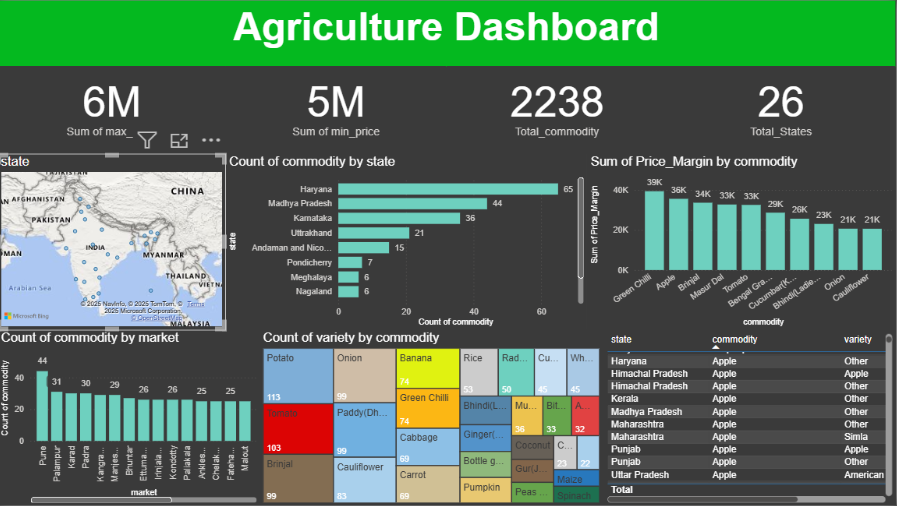

The dashboard page shown, as its layout file describes it:
{"tool":"powerbi","page":{"name":"Page 1","canvas":[1280,720],"ordinal":0},"visuals":[{"type":"textbox","box":[0,0,1279.2,93.9],"z":0},{"type":"card","fields":{"Values":["Sum(Agri_State_Wise.max_price)"]},"box":[0,93.9,325.5,110.1],"z":1000},{"type":"card","fields":{"Values":["Sum(Agri_State_Wise.min_price)"]},"box":[325.5,93.9,314.1,110.1],"z":2000},{"type":"clusteredBarChart","fields":{"Category":["Agri_State_Wise.state"],"Y":["CountNonNull(Agri_State_Wise.commodity)"]},"box":[325.5,218.6,514.9,251],"z":3000},{"type":"tableEx","fields":{"Values":["Agri_State_Wise.state","Agri_State_Wise.commodity","Agri_State_Wise.variety","Sum(Agri_State_Wise.modal_price)"]},"box":[863,469.6,416.1,251],"z":4000},{"type":"card","fields":{"Values":["Agri_State_Wise.Total_commodity"]},"box":[639.6,93.9,314.1,110.1],"z":5000},{"type":"treemap","fields":{"Values":["CountNonNull(Agri_State_Wise.variety)"],"Group":["Agri_State_Wise.commodity"]},"box":[374,469.6,489,251],"z":6000},{"type":"lineClusteredColumnComboChart","fields":{"Category":["Agri_State_Wise.market"],"Y":["CountNonNull(Agri_State_Wise.commodity)"]},"box":[0,469.6,374,251],"z":7000},{"type":"card","fields":{"Values":["Agri_State_Wise.Total_States"]},"box":[953.7,93.9,325.5,110.1],"z":8000},{"type":"map","fields":{"Category":["Agri_State_Wise.state"]},"box":[0,219,325,251],"z":9000},{"type":"clusteredColumnChart","fields":{"Category":["Agri_State_Wise.commodity"],"Y":["Sum(Agri_State_Wise.Price_Margin)"]},"box":[840.4,218.6,438.8,251],"z":10000}]}

Visuals, with their boxes in screenshot pixels (x1, y1, x2, y2), scaled from the page's 1280x720 canvas onto the 897x506 screenshot:
textbox: bbox=(0, 0, 896, 66)
card - Sum(Agri_State_Wise.max_price): bbox=(0, 66, 228, 143)
card - Sum(Agri_State_Wise.min_price): bbox=(228, 66, 448, 143)
clusteredBarChart - Agri_State_Wise.state x CountNonNull(Agri_State_Wise.commodity): bbox=(228, 154, 589, 330)
tableEx - Agri_State_Wise.state x Agri_State_Wise.commodity: bbox=(605, 330, 896, 505)
card - Agri_State_Wise.Total_commodity: bbox=(448, 66, 668, 143)
treemap - CountNonNull(Agri_State_Wise.variety) x Agri_State_Wise.commodity: bbox=(262, 330, 605, 505)
lineClusteredColumnComboChart - Agri_State_Wise.market x CountNonNull(Agri_State_Wise.commodity): bbox=(0, 330, 262, 505)
card - Agri_State_Wise.Total_States: bbox=(668, 66, 896, 143)
map - Agri_State_Wise.state: bbox=(0, 154, 228, 330)
clusteredColumnChart - Agri_State_Wise.commodity x Sum(Agri_State_Wise.Price_Margin): bbox=(589, 154, 896, 330)
